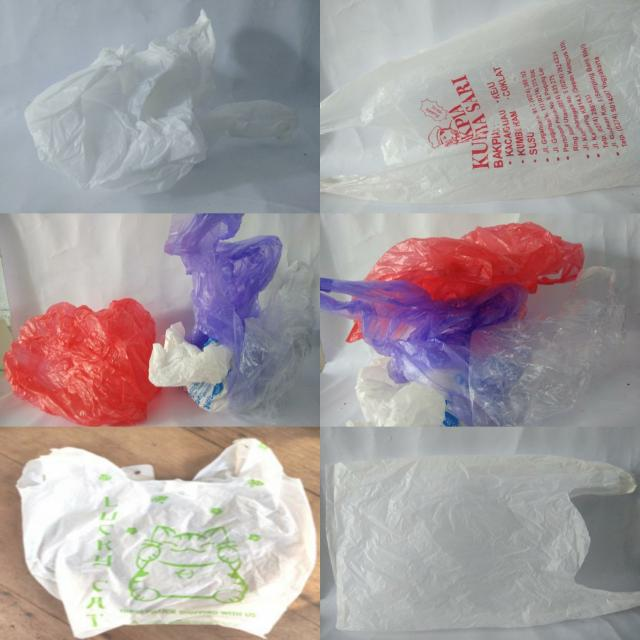Single-layer Plastic: (320, 0, 639, 203), (18, 439, 315, 638), (327, 455, 635, 630), (25, 10, 298, 194), (320, 279, 528, 423), (469, 266, 625, 426), (4, 299, 159, 426), (365, 222, 584, 300), (164, 214, 283, 357), (229, 261, 315, 419), (149, 322, 231, 411), (355, 356, 445, 426)
